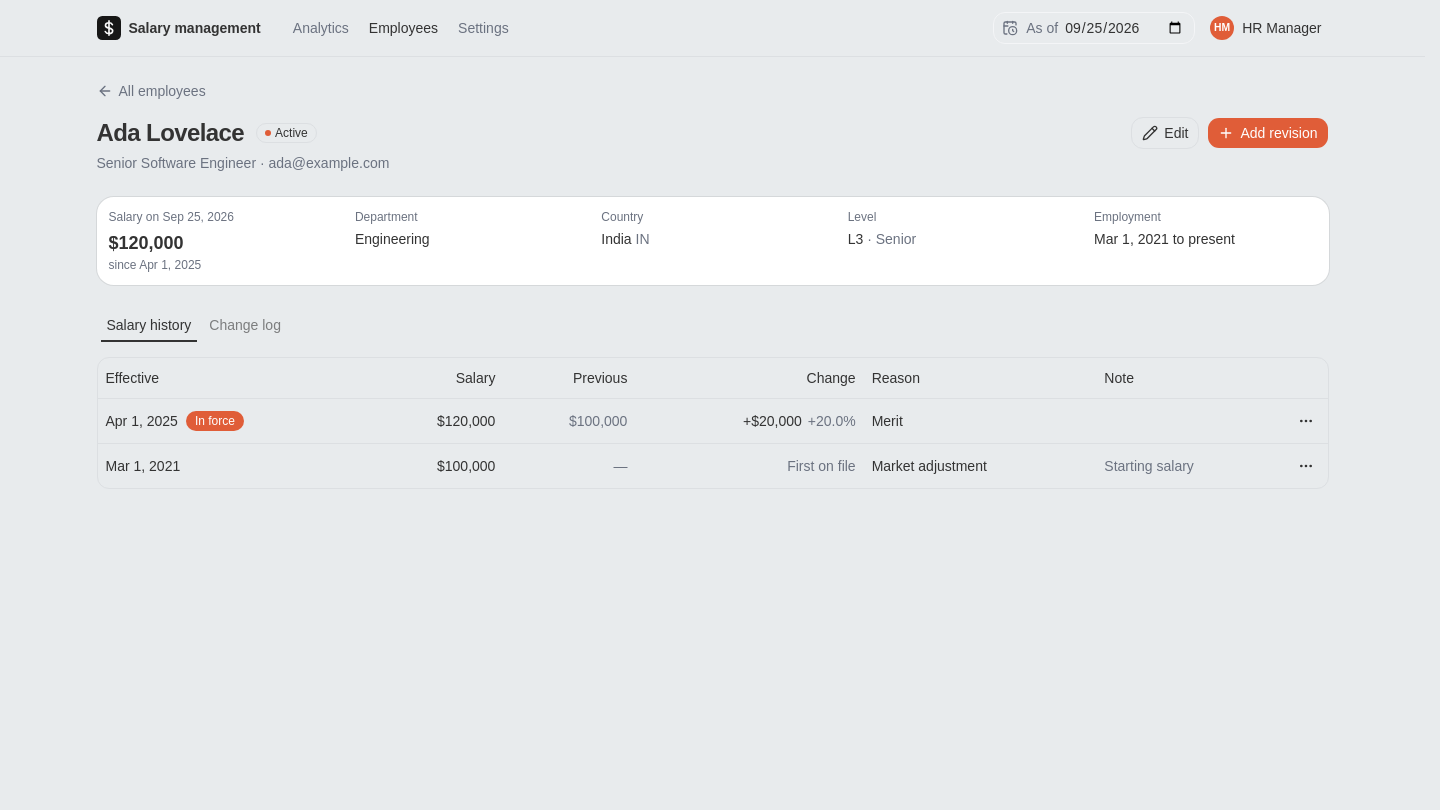
Scenario: salary revision › shows a 422 on an occupied date on the date field
Click the button "Add revision" at (1268, 133), box 1208,117 -> 1328,149
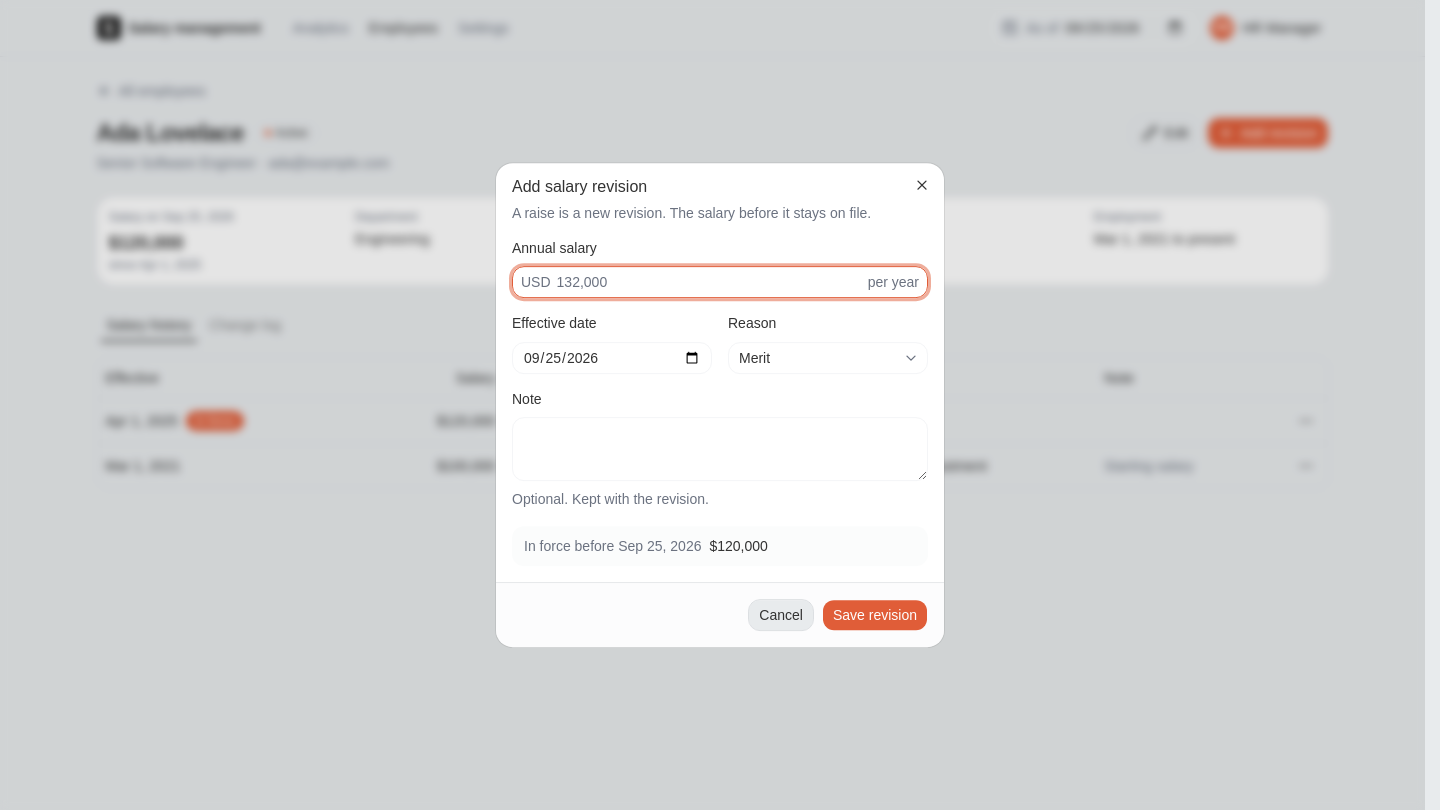
Type "132000" into the field labelled "Annual salary" at (709, 282), box 551,266 -> 868,298
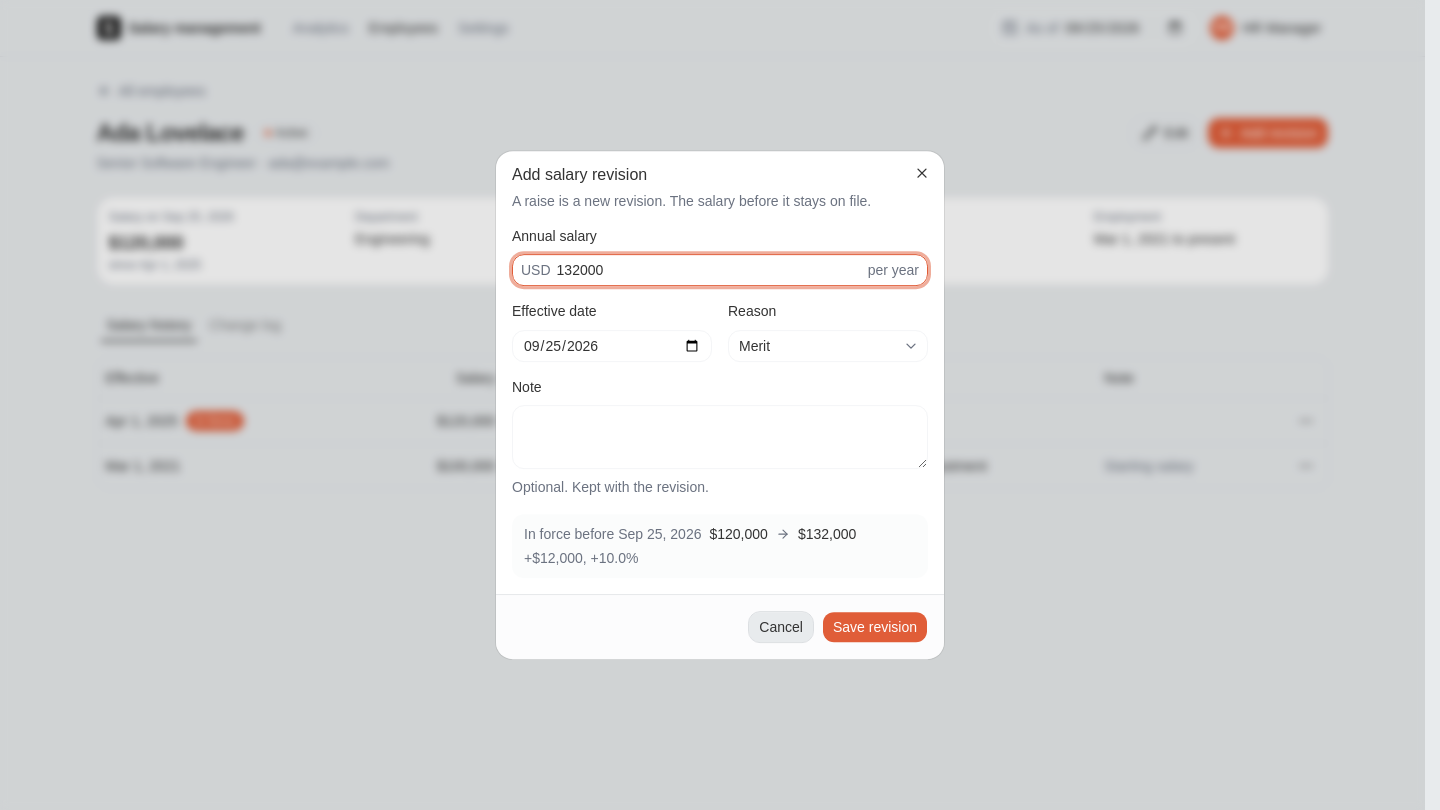
Click the button "Save revision" at (875, 627), box 822,611 -> 928,643
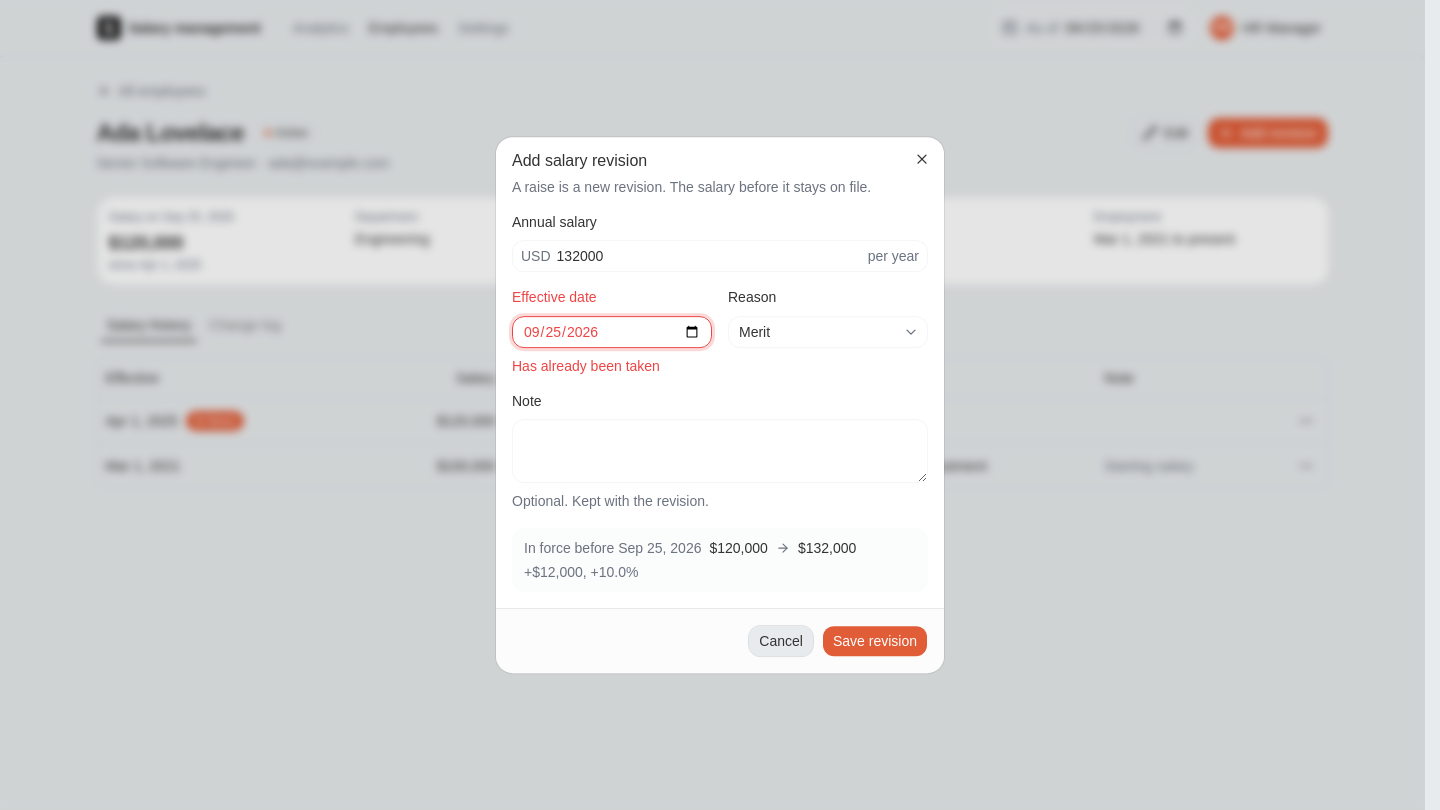
Expected: the text "Has already been taken" is shown, 512,358 -> 660,374
